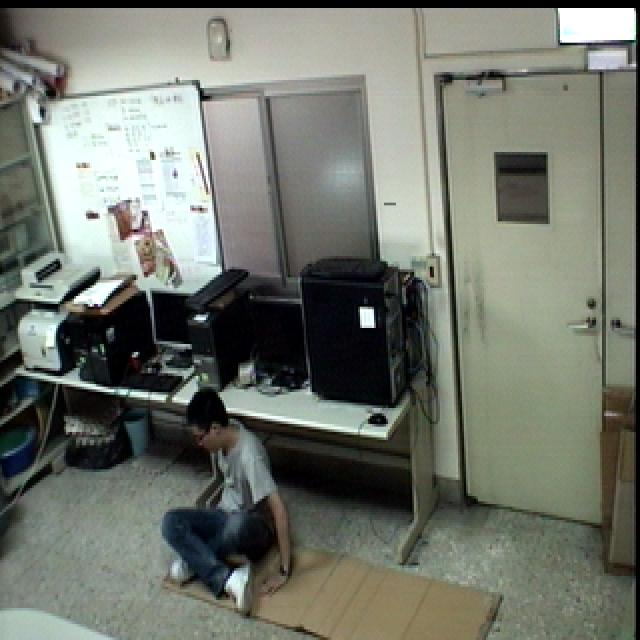sit: (158, 382, 299, 622)
